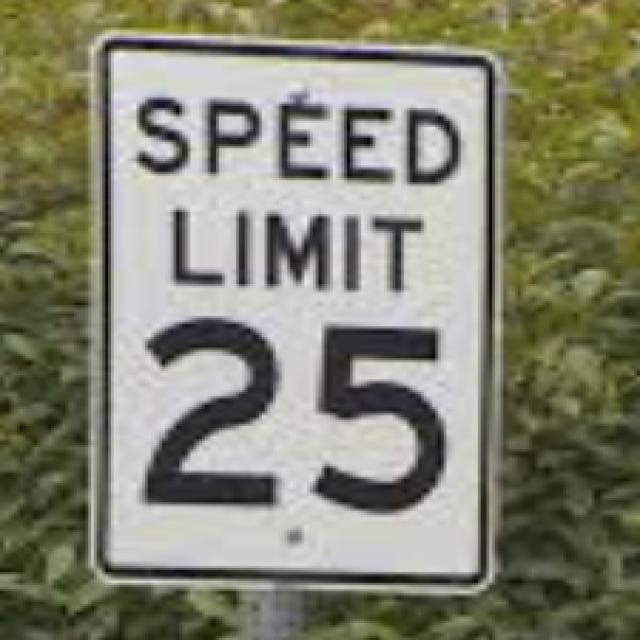speedLimit25: (101, 35, 490, 592)
